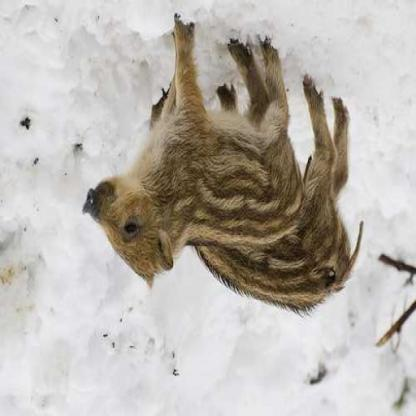boar: (89, 1, 328, 269), (191, 79, 411, 314)
